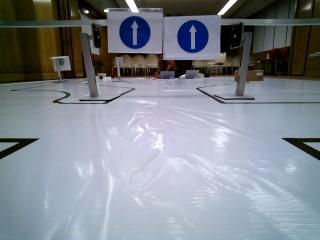straight: (167, 20, 222, 58), (112, 12, 161, 52)
